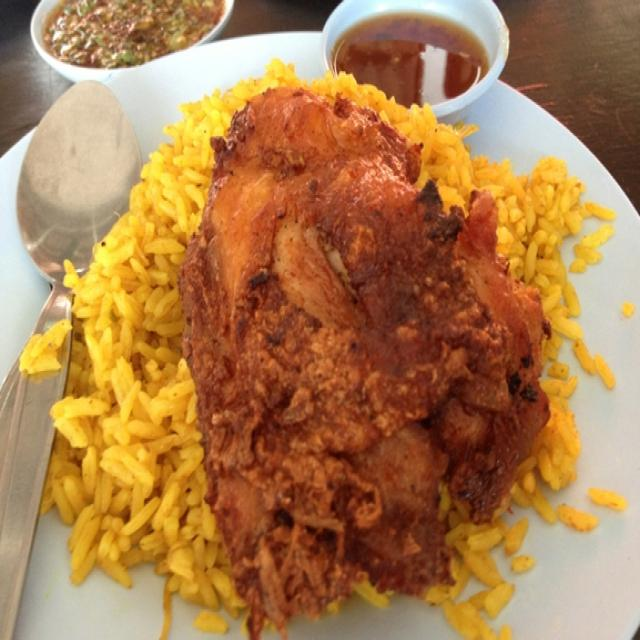米饭主食: (8, 37, 631, 634)
